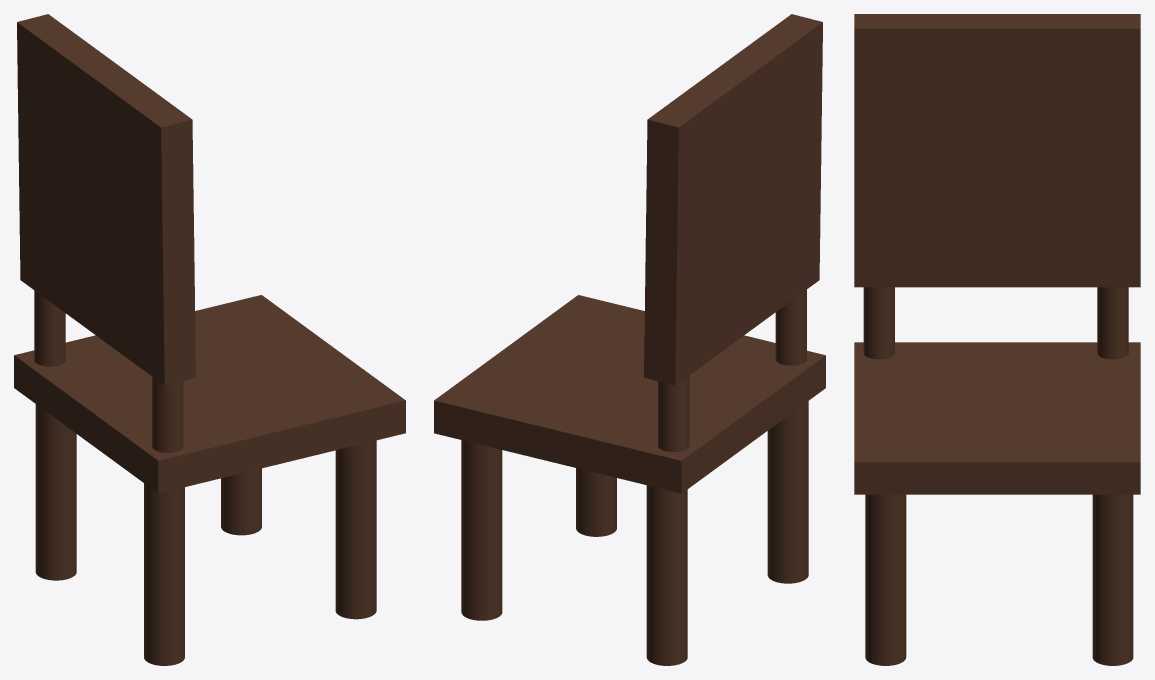
The model's file is Chair.fbx.
3 views of the same model, side by side, from view 1: azimuth 30°, elevation 25°; view 2: azimuth 150°, elevation 25°; view 3: azimuth 270°, elevation 25° (orthographic).
Parts seen in each view (by area): view 1: Cube.001, Cube, Cylinder.004, Cylinder.003, Cylinder.002, Cylinder.005, Cylinder, Cylinder.001; view 2: Cube.001, Cube, Cylinder.002, Cylinder.005, Cylinder.003, Cylinder.004, Cylinder.001, Cylinder; view 3: Cube.001, Cube, Cylinder.004, Cylinder.005, Cylinder.001, Cylinder.
Boxes of the visible parts, box(x1,y1,x2,y2) form: Cube.001: box(17, 14, 195, 385); Cube: box(14, 295, 405, 493); Cylinder.004: box(335, 440, 376, 619); Cylinder.003: box(144, 483, 184, 665); Cylinder.002: box(35, 404, 76, 580); Cylinder.005: box(221, 468, 261, 535); Cylinder: box(152, 376, 183, 452); Cylinder.001: box(34, 290, 65, 366); Cube.001: box(644, 14, 822, 385); Cube: box(434, 295, 825, 493); Cylinder.002: box(646, 485, 687, 665); Cylinder.005: box(461, 440, 502, 620); Cylinder.003: box(767, 401, 808, 583); Cylinder.004: box(576, 468, 616, 536); Cylinder.001: box(658, 376, 689, 451); Cylinder: box(775, 289, 806, 365); Cube.001: box(854, 14, 1140, 287); Cube: box(854, 342, 1140, 494); Cylinder.004: box(865, 494, 906, 665); Cylinder.005: box(1092, 494, 1133, 665); Cylinder.001: box(1097, 287, 1128, 359); Cylinder: box(863, 287, 894, 359).
Bounding box in the file's own units: 299 × 631 × 302.
